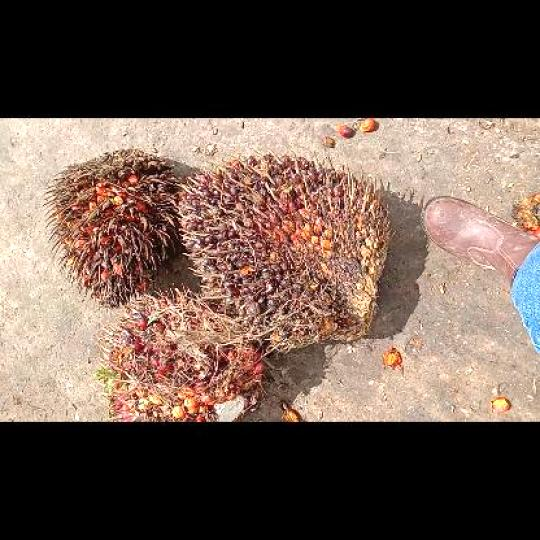kurang masak: (179, 153, 392, 351)
masak: (107, 296, 262, 421)
terlalu masak: (48, 148, 178, 306)
